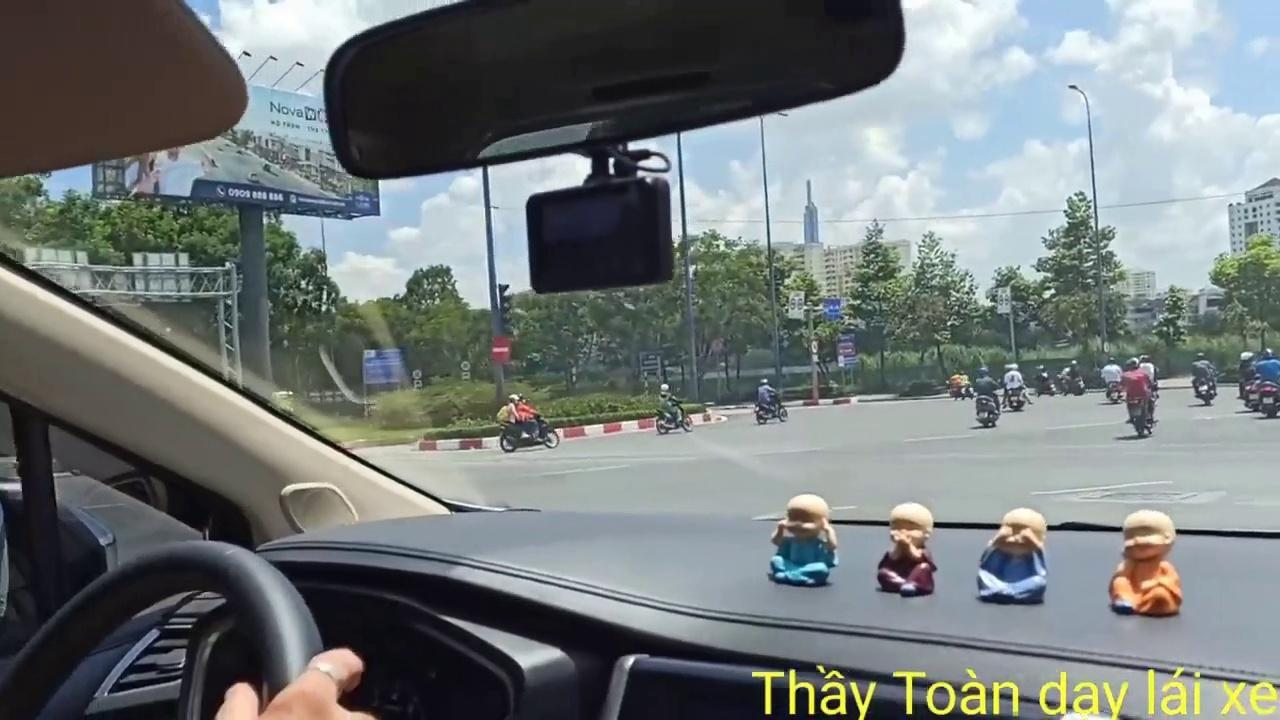Cấm cac phương tiện hoạt động trong khung giờ cố định: (788, 289, 805, 320)
Cấm đi ngược chiều: (486, 333, 516, 366)
Khác: (360, 347, 406, 384), (834, 330, 856, 367)
Làn đường cho từng xe: (822, 296, 841, 322)
